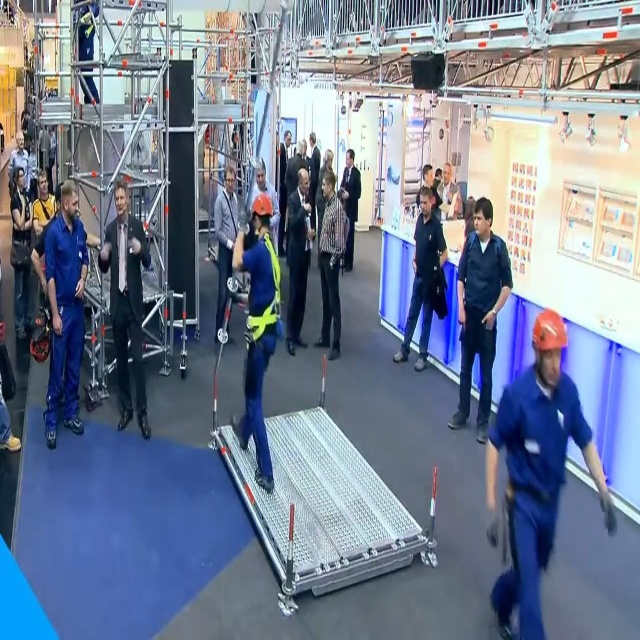Arnes_seguridad: (240, 242, 287, 341)
